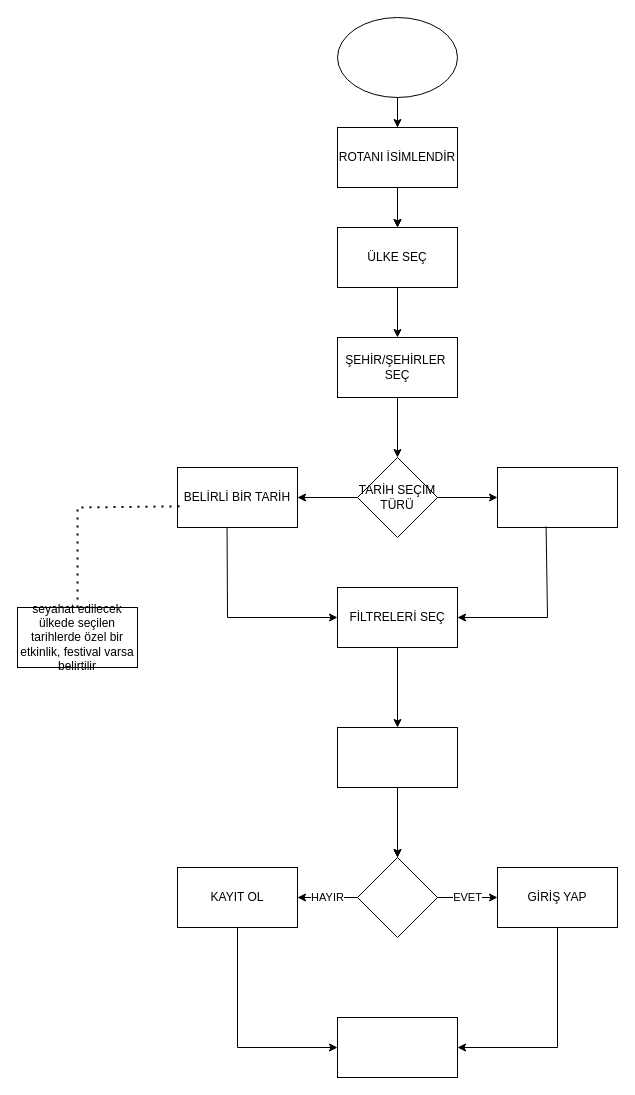
The diagram is 635 pixels wide and 1095 high, and some of its shapes have lost their labels. Here are the shapes that lost their labels. From the top down, the box of each, then its label:
(336, 16, 458, 98): BAŞLA
(496, 466, 618, 528): ESNEK BIRAK
(336, 726, 458, 788): ROTANI OLUŞTUR
(356, 856, 438, 938): HESABIN VAR MI
(336, 1016, 458, 1078): ROTANI KAYDET
